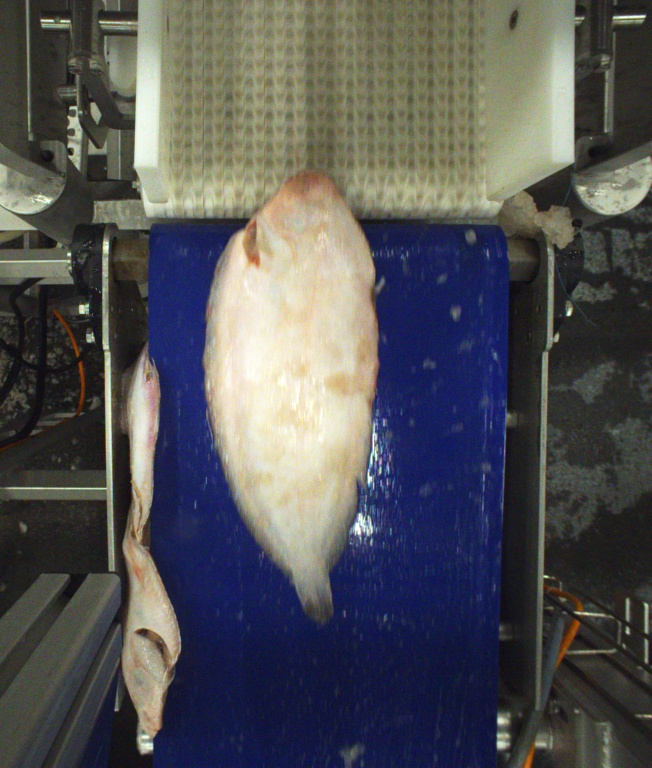SOL: (206, 169, 383, 624)
